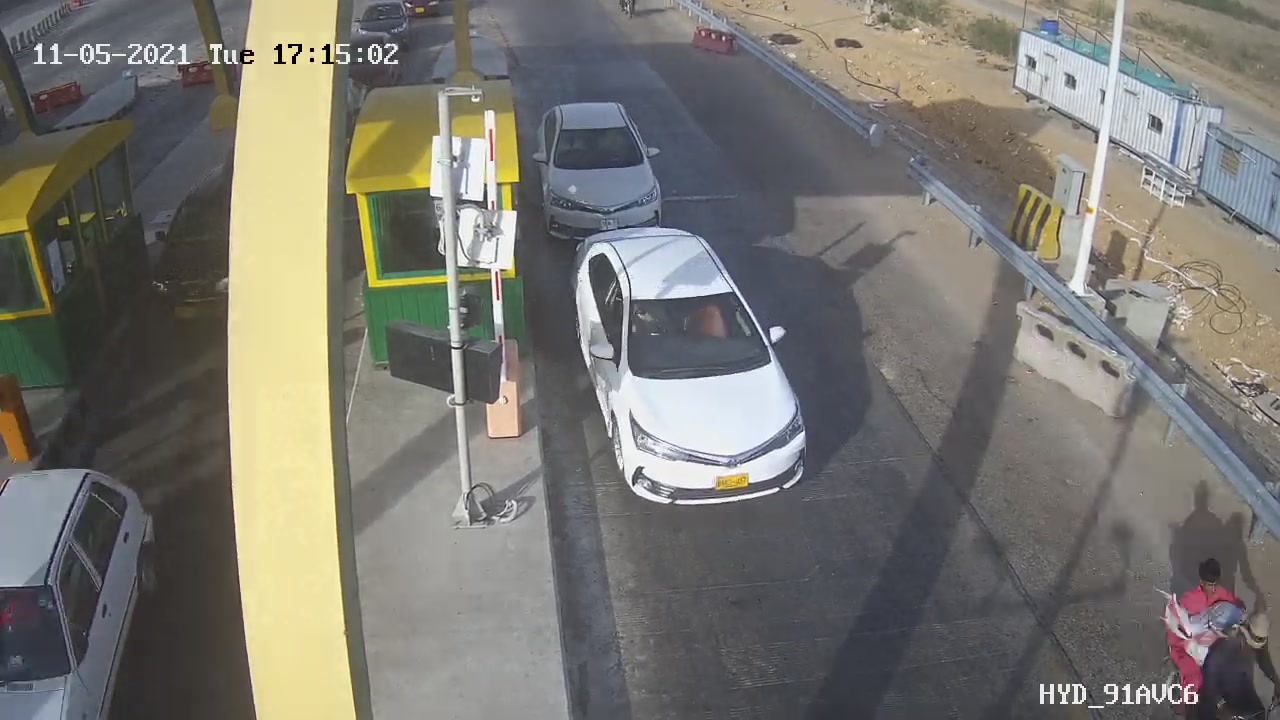F1: (520, 85, 683, 256)
